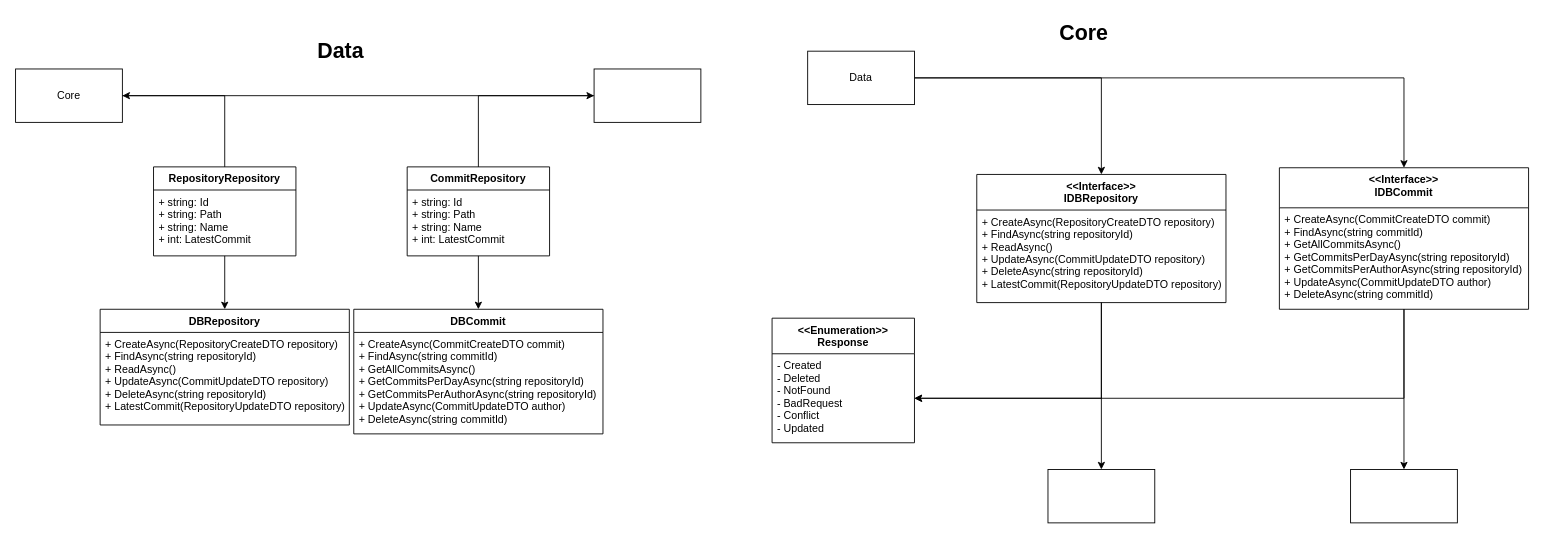
This 1544x538 diagram has some shape labels left out. Each missing label, with the centre of its shape:
CommitDTO: (x=1101, y=496)
DBContext: (x=647, y=95)
RepositoryDTO: (x=1403, y=496)
